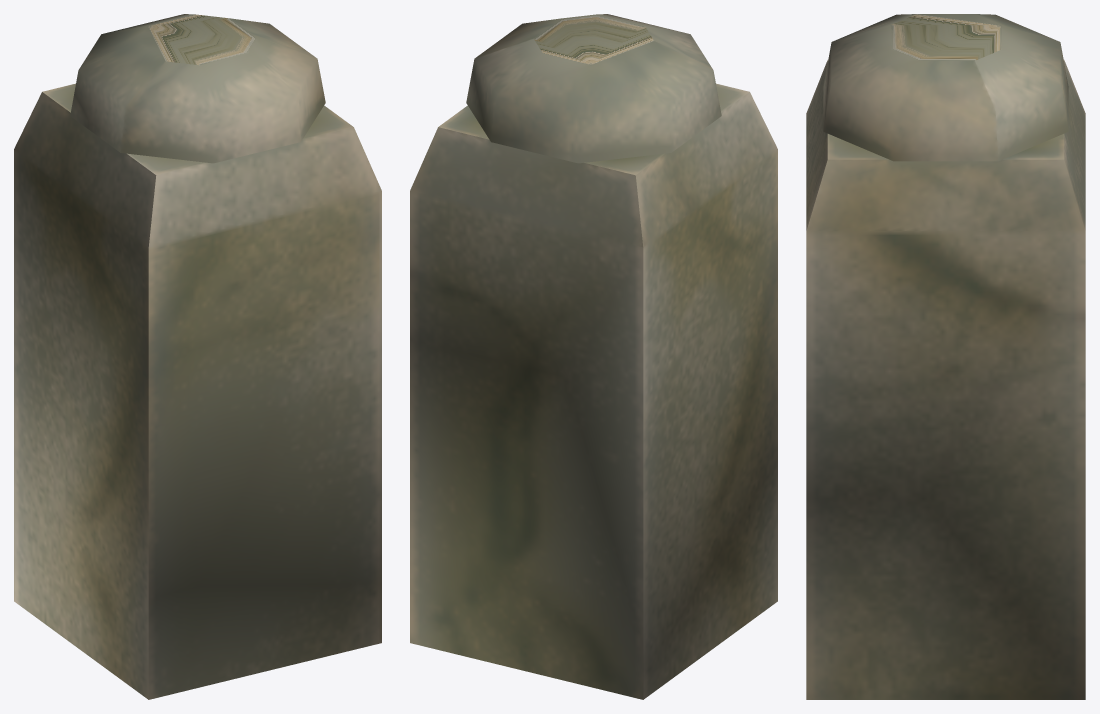
The model's file is pavilion02.fbx.
3 views of the same model, side by side, from view 1: azimuth 30°, elevation 25°; view 2: azimuth 150°, elevation 25°; view 3: azimuth 270°, elevation 25° (orthographic). The views are drawn at different scales.
Visible parts, largest first — view 1: Cylinder.002; view 2: Cylinder.002; view 3: Cylinder.002.
Boxes of the visible parts, x1,y1,x2,y2 form: Cylinder.002: [14, 14, 381, 699]; Cylinder.002: [410, 14, 777, 699]; Cylinder.002: [806, 14, 1085, 699].
Size of the model in its own units: 53.54 by 128 by 53.54.
